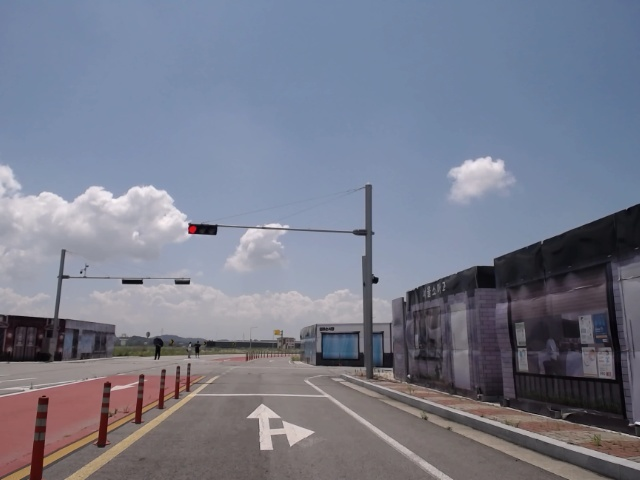red_3: (188, 223, 218, 235)
